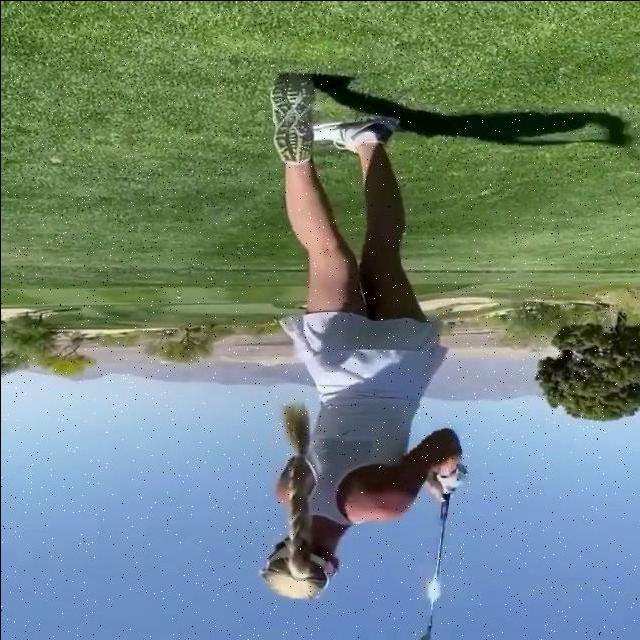golf club-handle: (412, 465, 460, 640)
